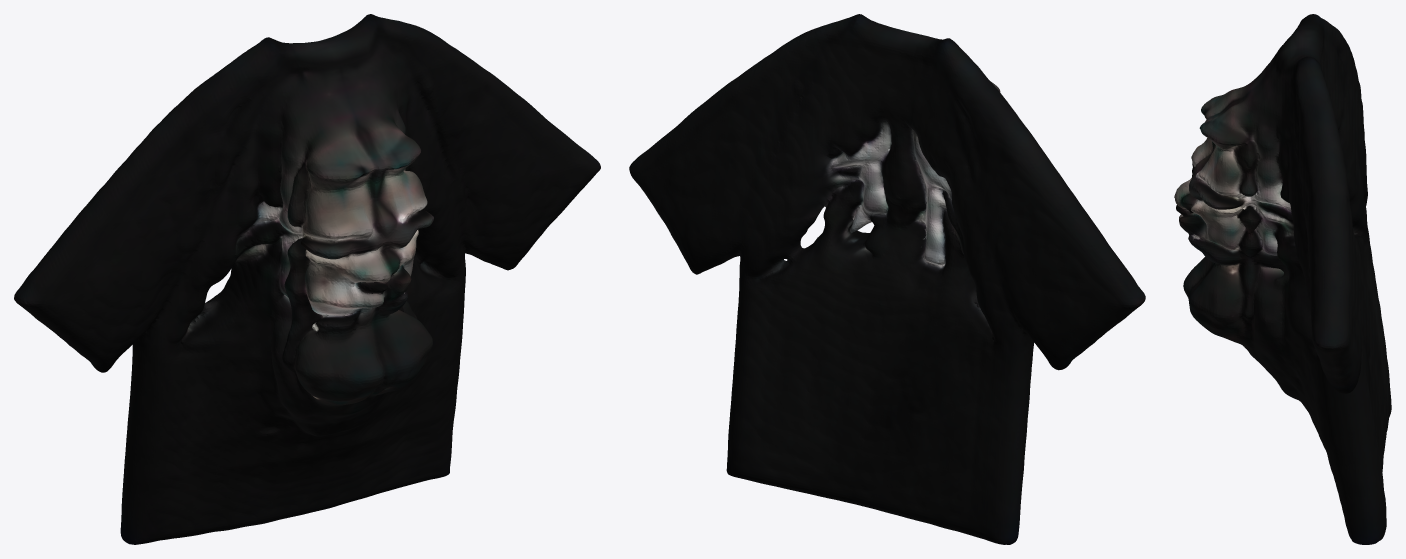
The model's file is 3_tshirt_base.glb.
The picture shows the model from 3 angles, left to right: view 1: azimuth 30°, elevation 25°; view 2: azimuth 150°, elevation 25°; view 3: azimuth 270°, elevation 25°; orthographic projection. The views are drawn at different scales.
Visible parts, largest first — view 1: world; view 2: world; view 3: world.
Boxes of the visible parts, box(x1,y1,x2,y2) form: world: box(14, 14, 600, 544); world: box(629, 14, 1145, 544); world: box(1174, 14, 1391, 544).
Bounding box in the file's own units: 0.9291 × 0.7883 × 0.3484.
1 material, 1 textured.
